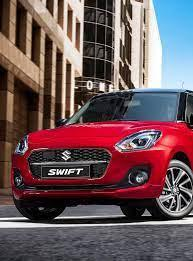Hatchback: (10, 87, 193, 222)
